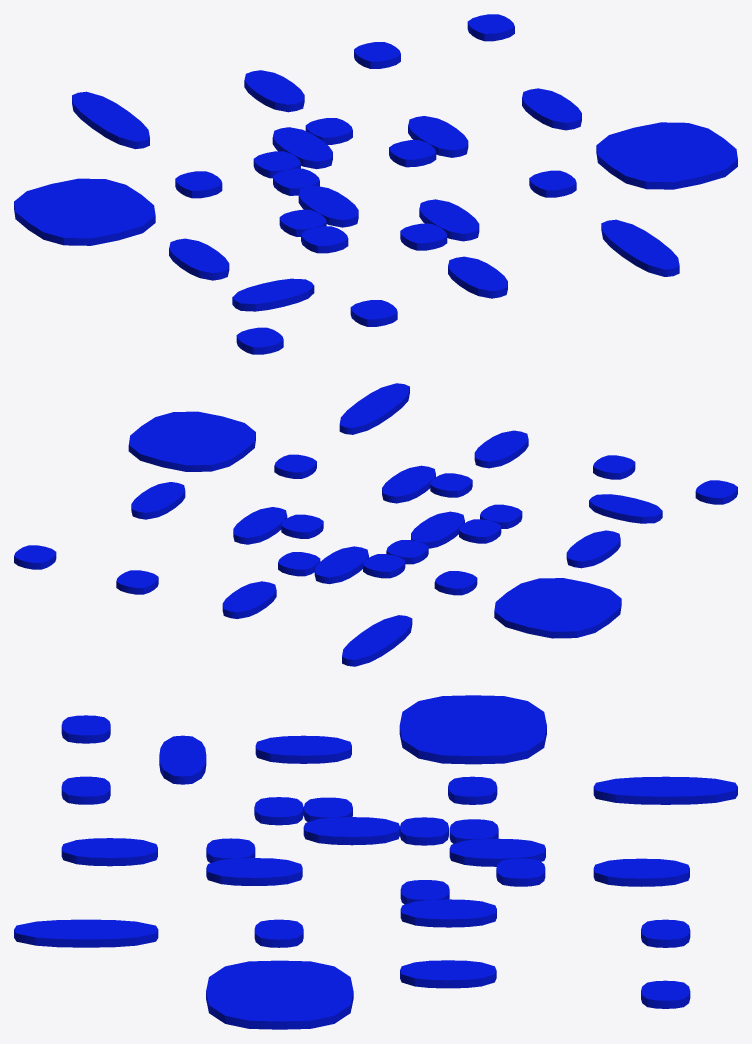
The model's file is st_level_01_test.FBX.
The picture shows the model from 3 angles, top to bottom: view 1: azimuth 30°, elevation 25°; view 2: azimuth 150°, elevation 25°; view 3: azimuth 270°, elevation 25°; orthographic projection. The views are drawn at different scales.
Visible parts, largest first — view 1: st_modules_064; view 2: st_modules_064; view 3: st_modules_064.
Part boxes in pixels (x1,y1,x2,y2): st_modules_064: (14,14,737,354); st_modules_064: (14,383,737,666); st_modules_064: (14,695,737,1029).
Bounding box in the file's own units: 2556 × 30 × 2398.
